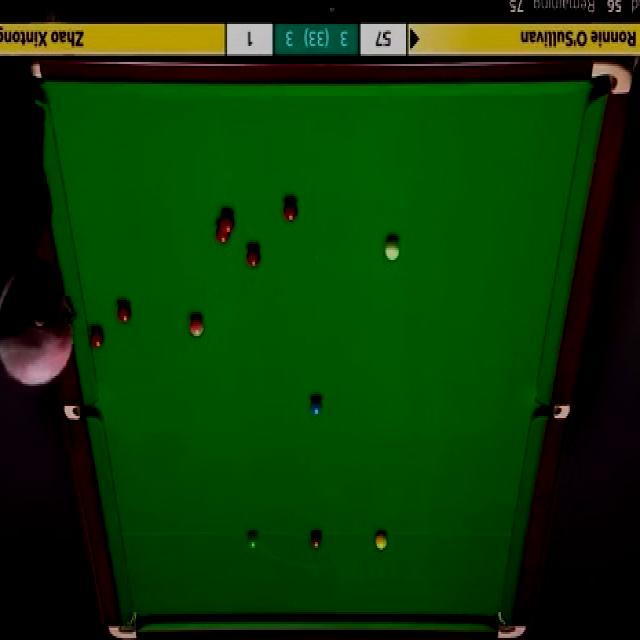pocket: (590, 61, 634, 96), (496, 610, 528, 640), (107, 608, 138, 638), (29, 58, 43, 106), (536, 400, 570, 419), (64, 399, 98, 418)
